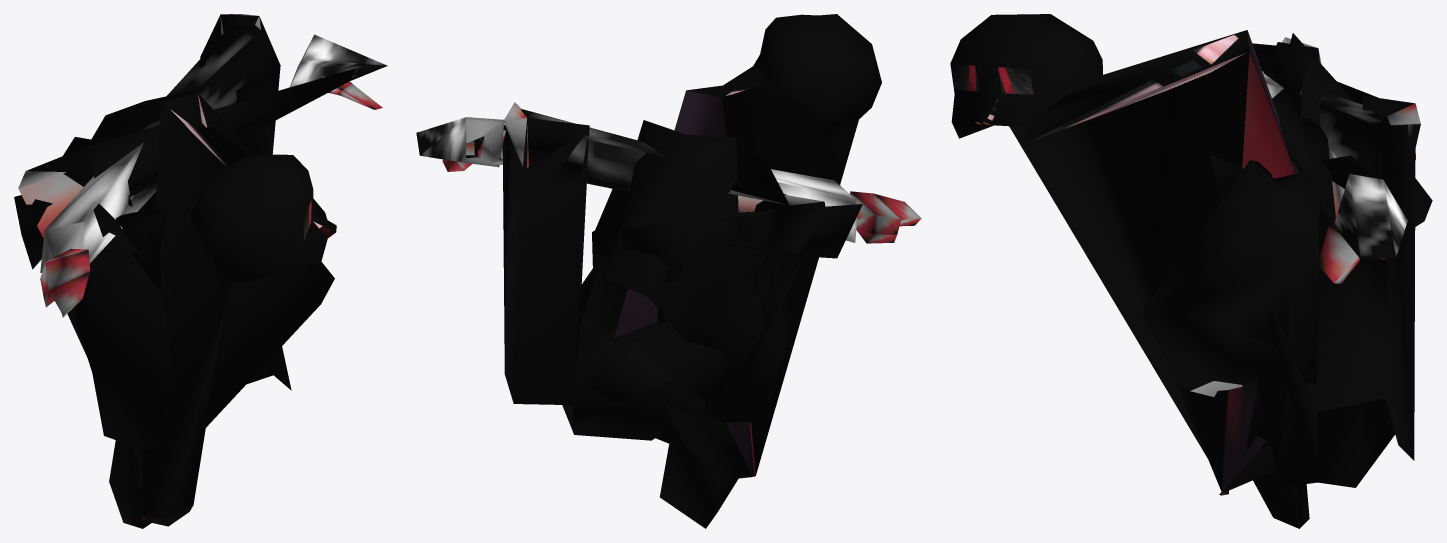
3 renders of one model, left to right at view 1: azimuth 30°, elevation 25°; view 2: azimuth 150°, elevation 25°; view 3: azimuth 270°, elevation 25°, orthographic. The views are drawn at different scales.
Parts seen in each view (by area): view 1: T1L6M005_14; view 2: T1L6M005_14; view 3: T1L6M005_14.
Part boxes in pixels (left/top/right/bottom): T1L6M005_14: left=14, top=14, right=387, bottom=528; T1L6M005_14: left=416, top=14, right=921, bottom=528; T1L6M005_14: left=950, top=14, right=1432, bottom=528.
Size of the model in its own units: 0.9925 by 0.9924 by 0.8494.
